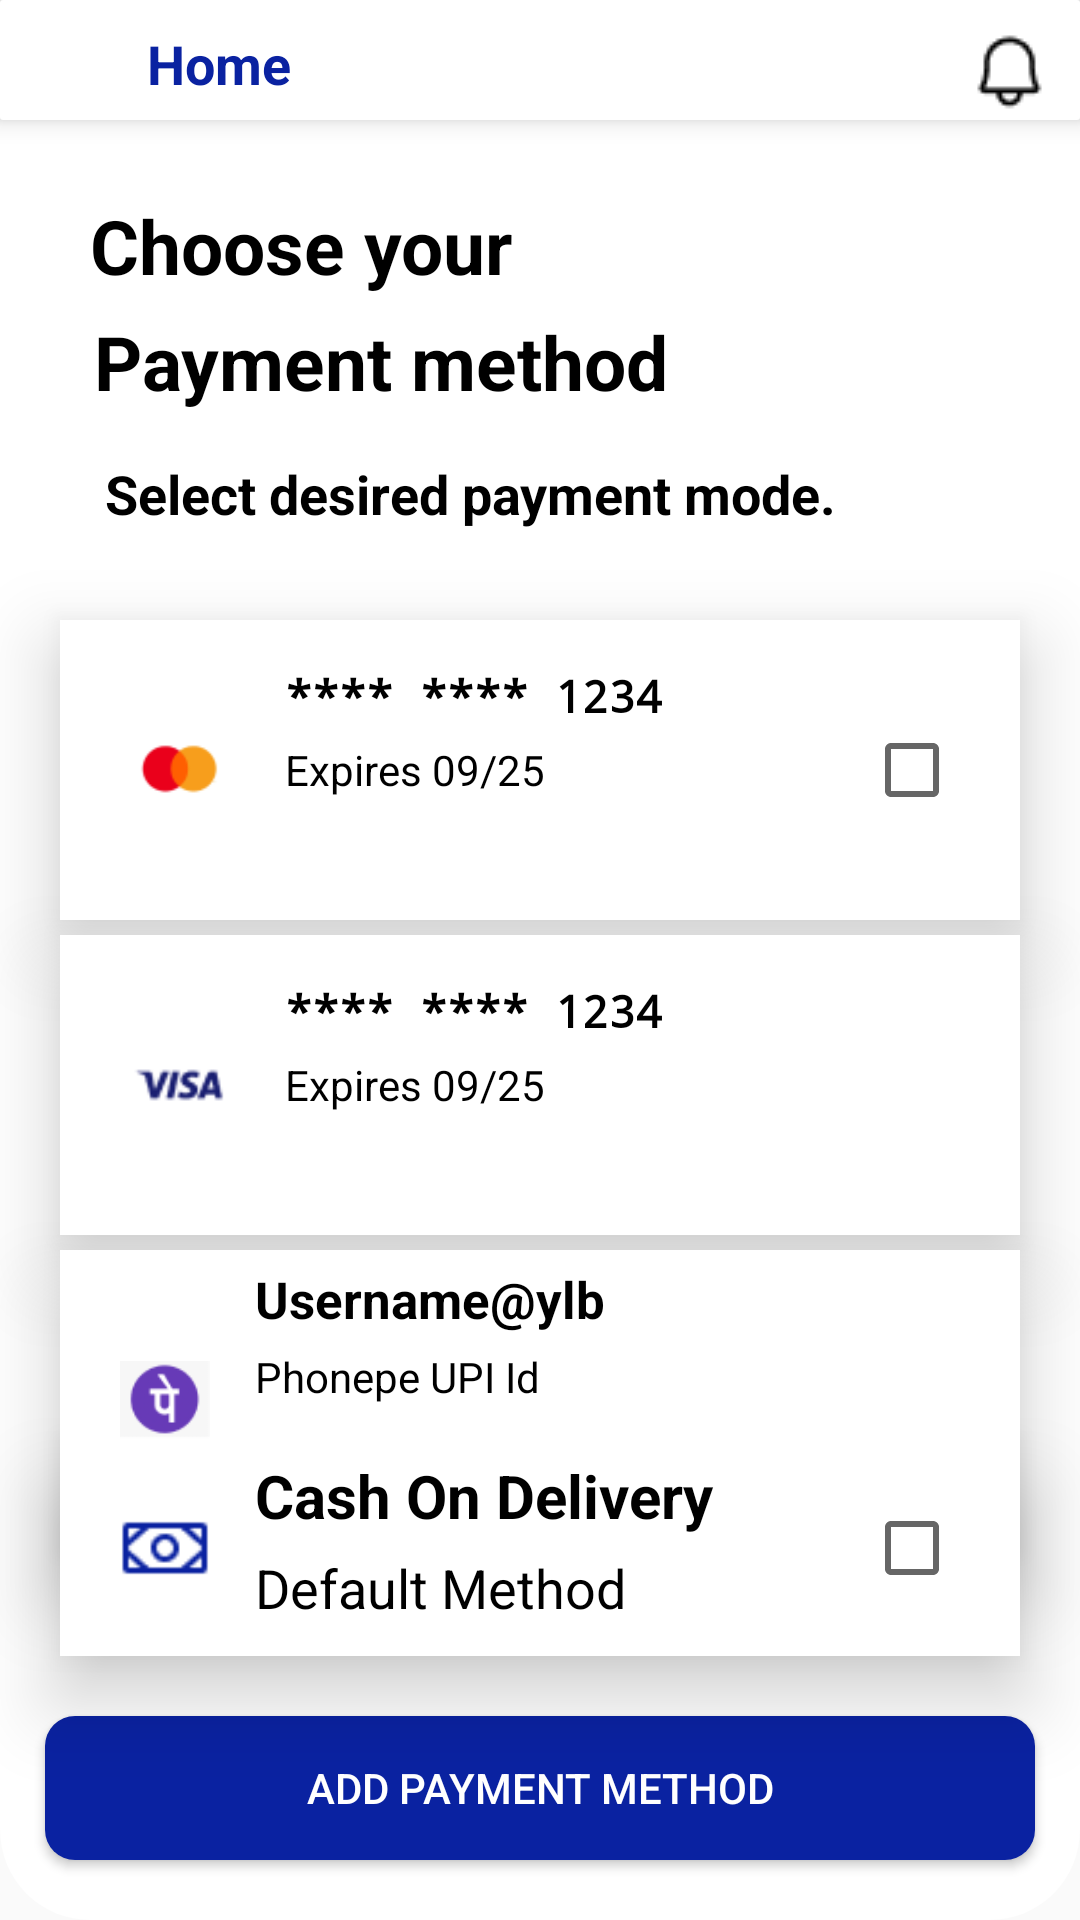

Icon bounding boxes for this 1080*1920 phone screenshot, format (x1, y1, x2, y2):
bell: (977, 35, 1042, 108)
money: (122, 1522, 208, 1574)
